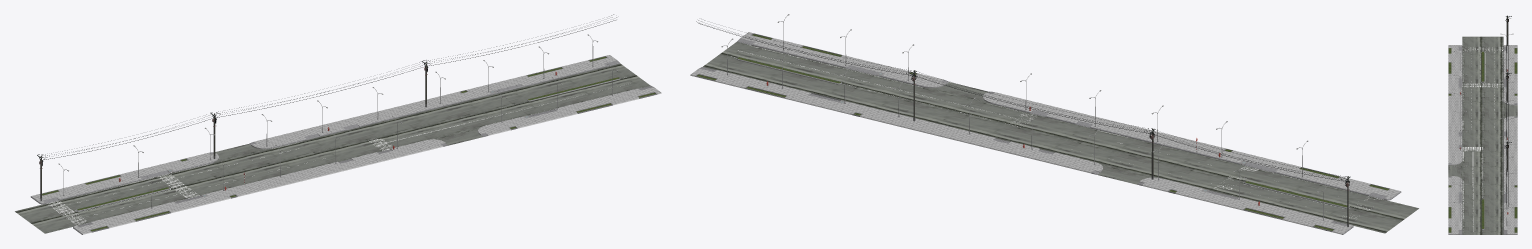
The model's file is road.glb.
3 views of the same model, side by side, from view 1: azimuth 30°, elevation 25°; view 2: azimuth 150°, elevation 25°; view 3: azimuth 270°, elevation 25° (orthographic). The views are drawn at different scales.
Parts seen in each view (by area): view 1: Material3 (×4), Material2 (×5); view 2: Material3 (×4), Material2 (×5); view 3: Material3 (×5), Material2 (×5).
Boxes of the visible parts, left/top/right/bottom form: Material3 (×4): left=15, top=34, right=661, bottom=234; Material2 (×5): left=30, top=14, right=660, bottom=234; Material3 (×4): left=690, top=14, right=1418, bottom=234; Material2 (×5): left=691, top=20, right=1401, bottom=234; Material3 (×5): left=1448, top=15, right=1517, bottom=234; Material2 (×5): left=1448, top=16, right=1517, bottom=234.
Size of the model in its own units: 5402 by 412 by 799.
Materials: 32 (17 with a texture image).
